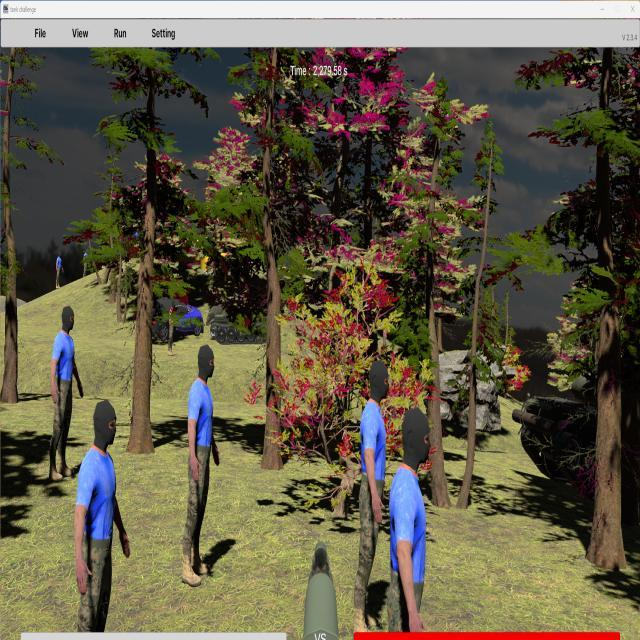Human: (74, 394, 130, 633), (387, 404, 432, 635), (355, 356, 390, 637), (183, 341, 220, 587), (49, 304, 83, 482)
